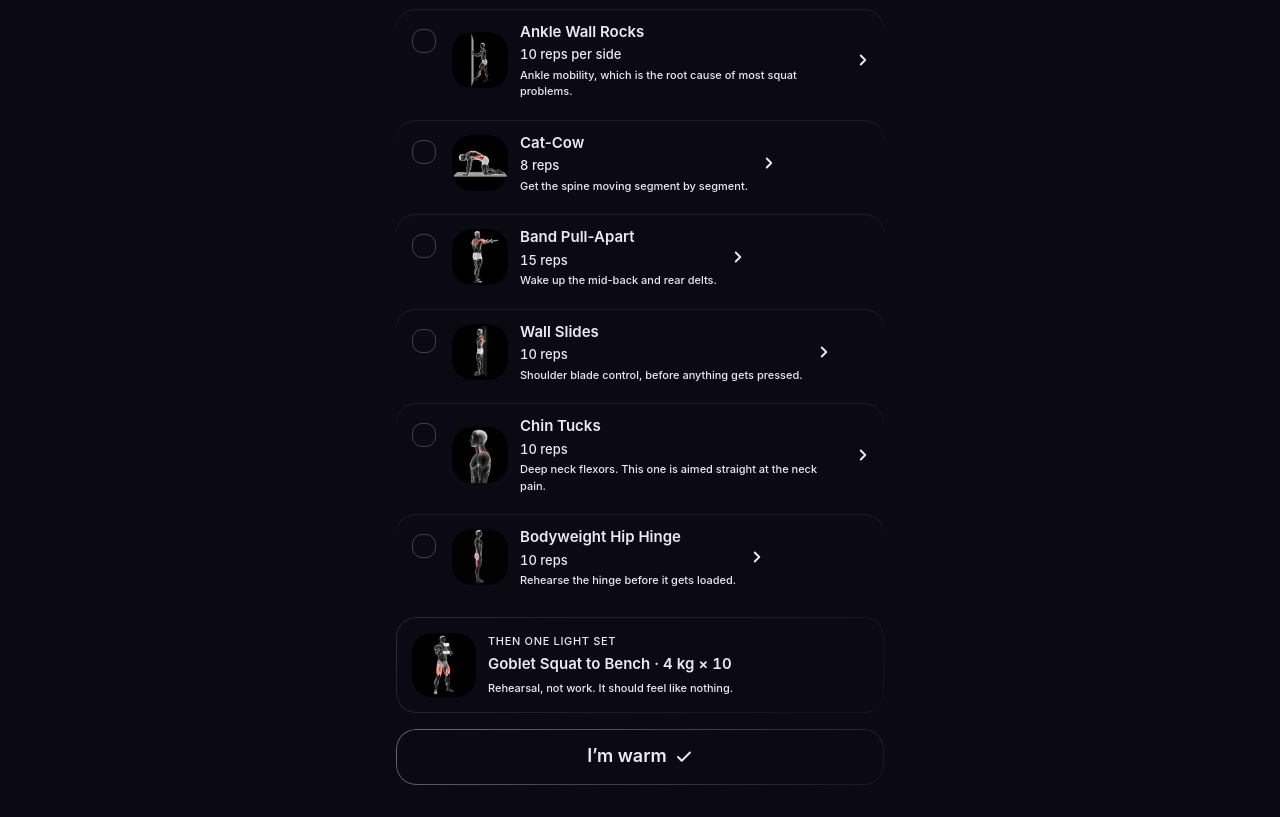
it: working through an exercise › goes warm-up, brief, set, logging, rest
The width and height of the screenshot is (1280, 817).
(page scrolled)
Click the button "I’m warm". click: click(640, 757)
box: [396,729,884,785]
(page scrolled)
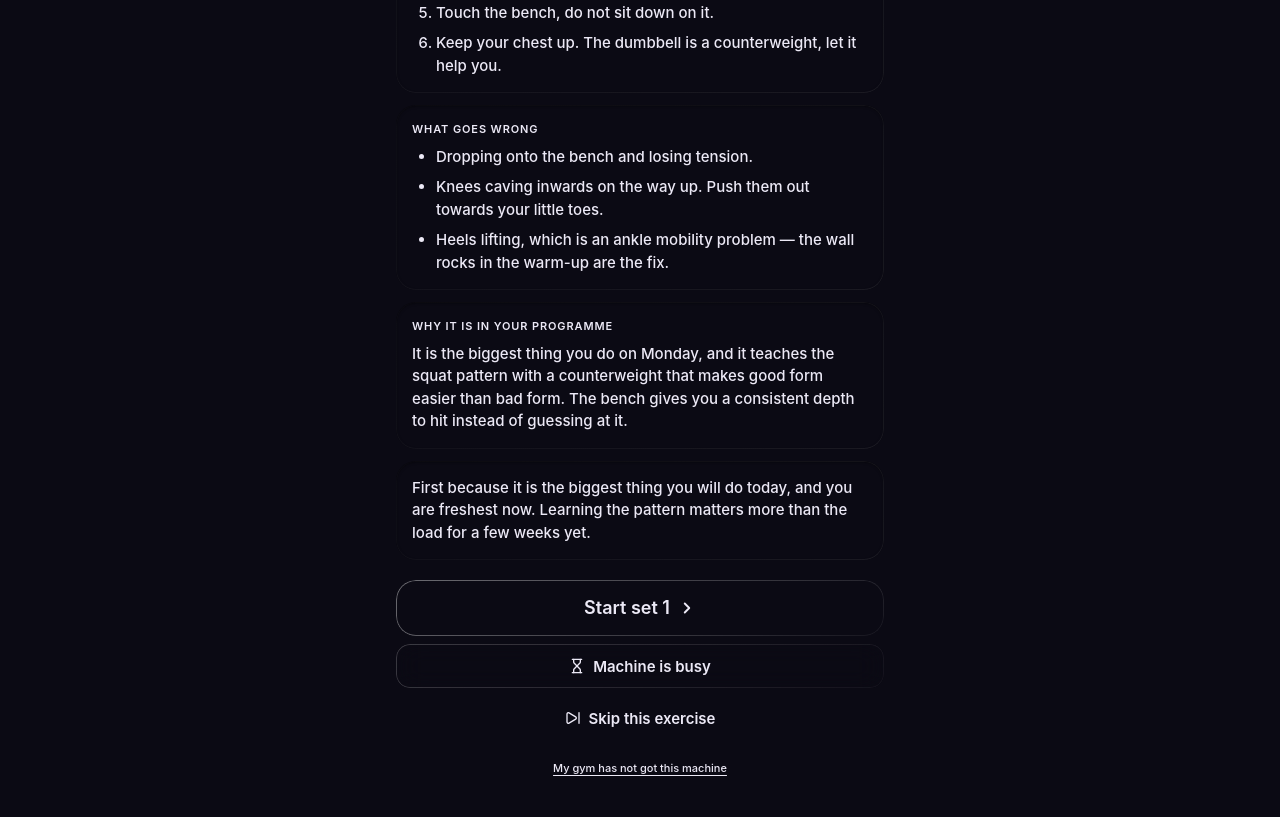
Click the button "Start set 1". click: click(640, 608)
box: [396,580,884,636]
(page scrolled)
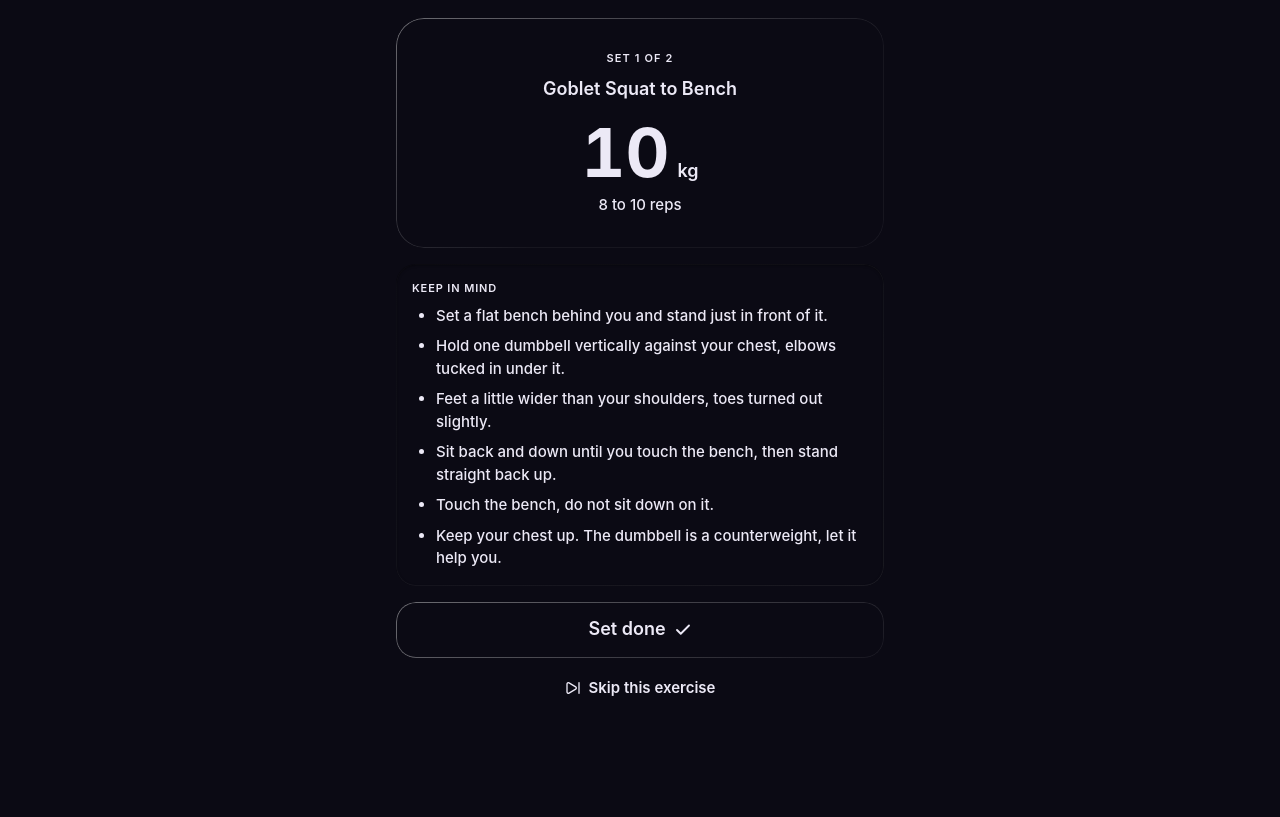
Result: the button "Set done" is shown
Click the button "Set done". click: click(640, 630)
box: [396,602,884,658]
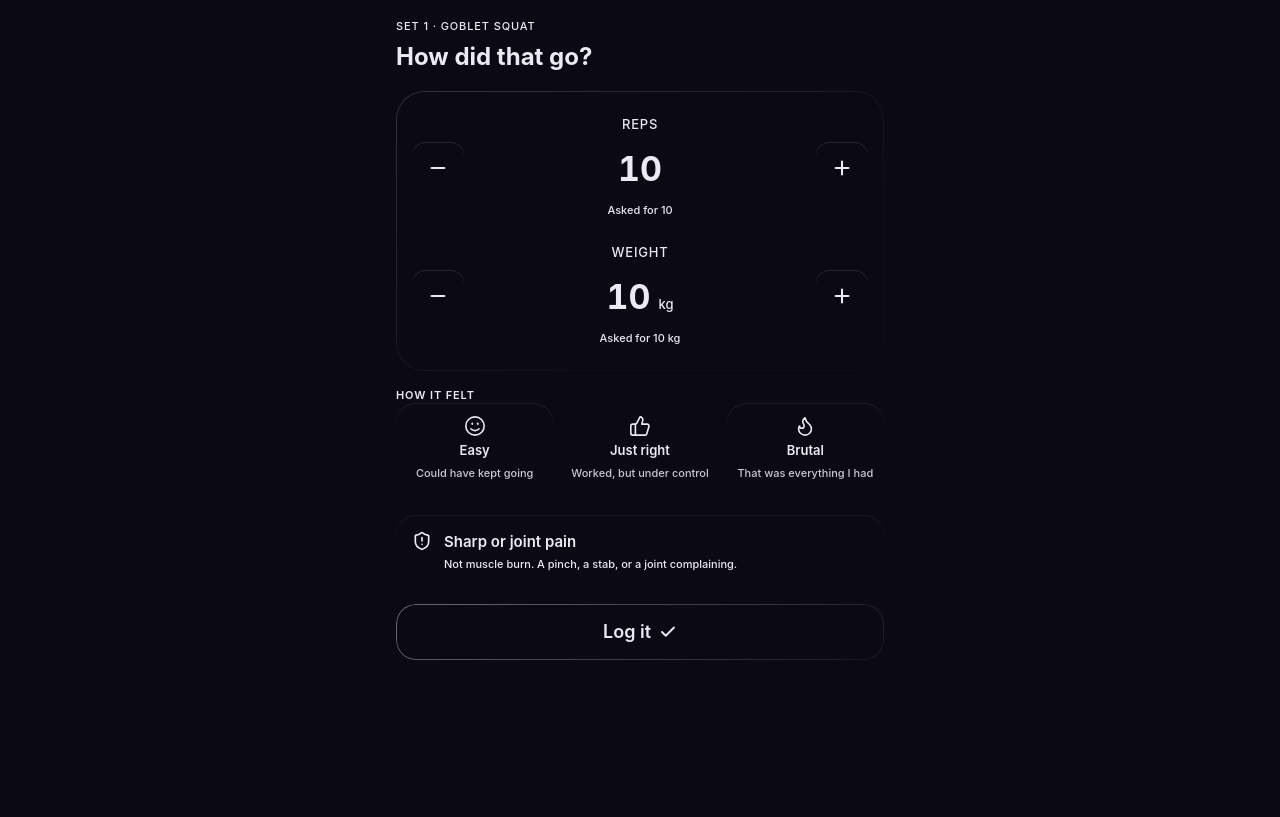
Result: the heading "How did that go?" is shown at [396,42,592,71]
Click the button "Log it". click: click(640, 632)
box: [396,604,884,660]
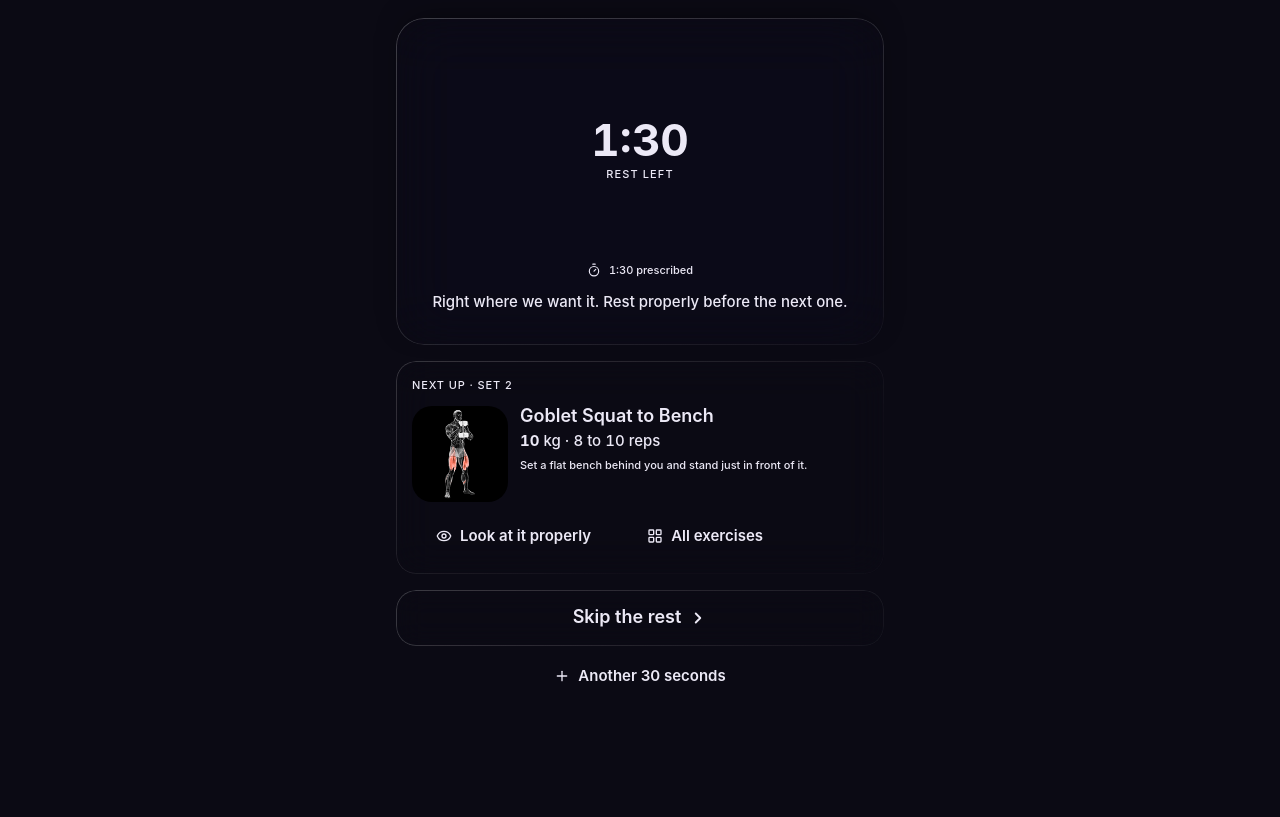
Result: the text "rest left" is shown at [606,166,674,182]
